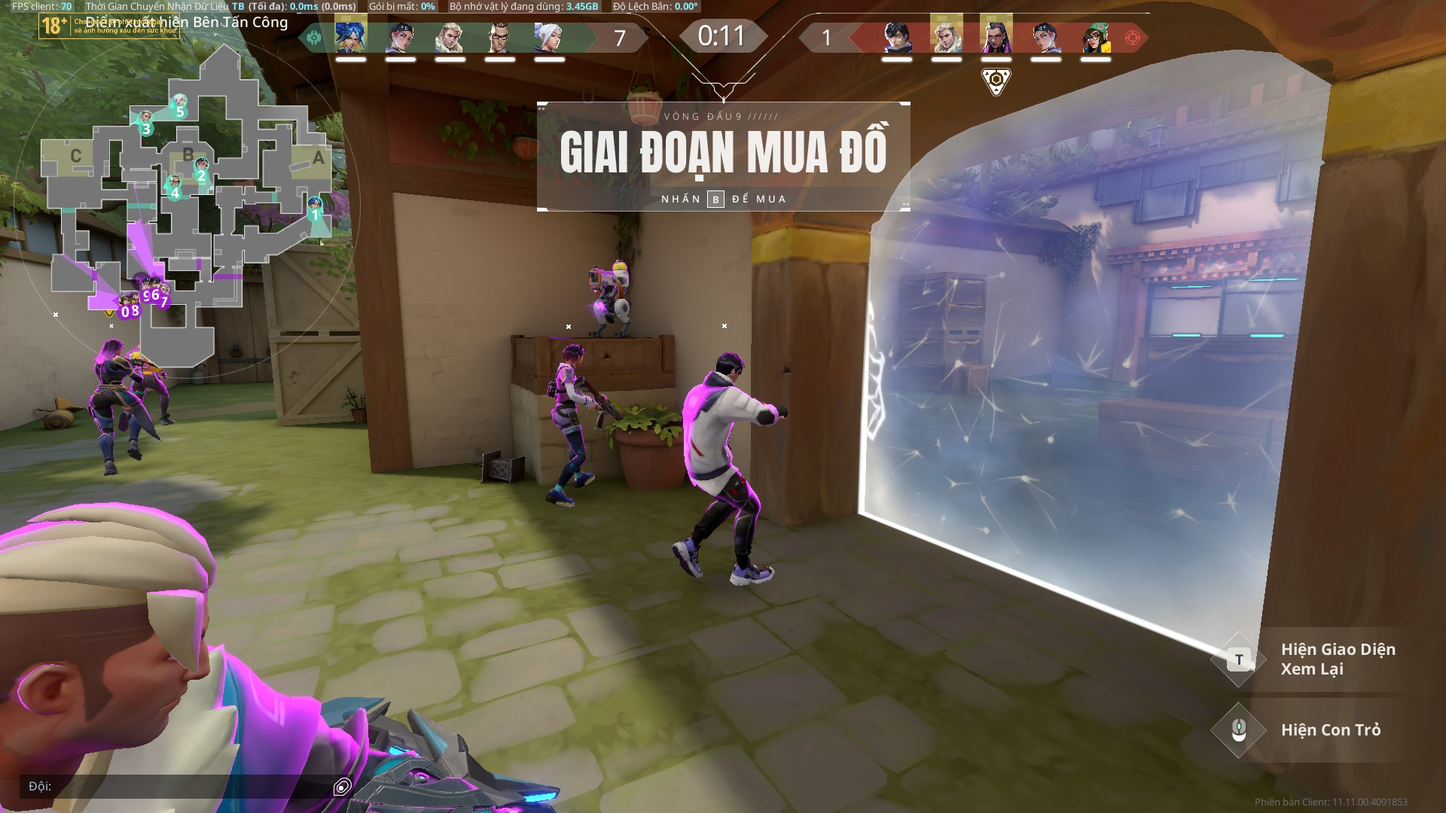body: (681, 368, 734, 456), (554, 361, 581, 419), (96, 358, 124, 388), (130, 348, 161, 375)
head: (5, 510, 205, 739), (713, 351, 740, 381), (558, 336, 582, 363), (96, 333, 118, 358), (136, 335, 154, 347)
